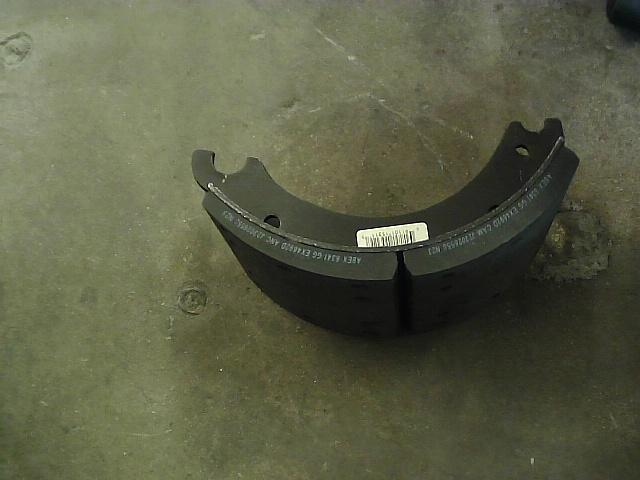brake-shoes: (190, 117, 579, 340)
